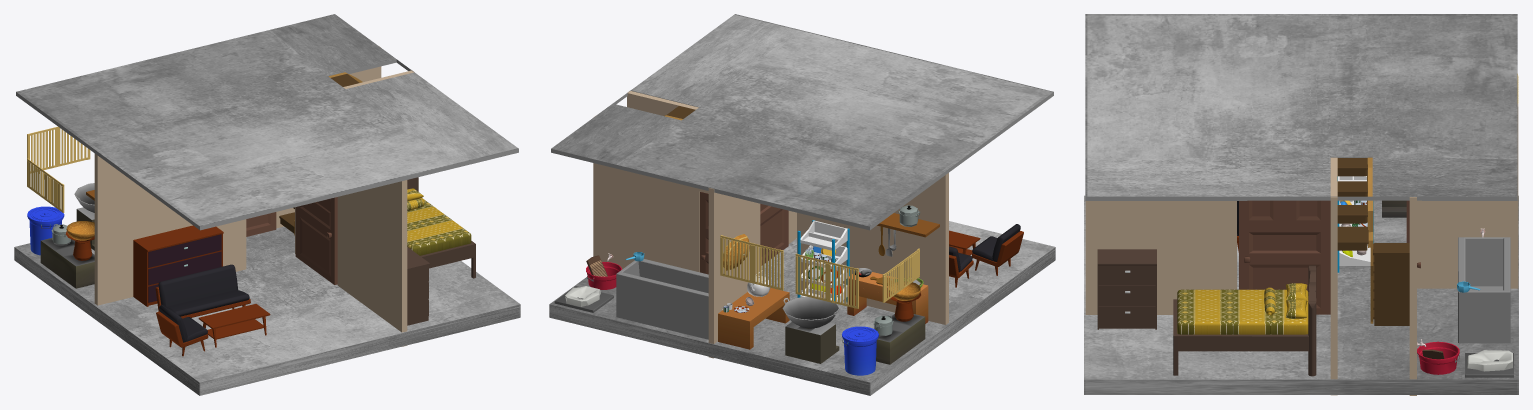
Rendered from interior rumah atta.fbx.
3 views of the same model, side by side, from view 1: azimuth 30°, elevation 25°; view 2: azimuth 150°, elevation 25°; view 3: azimuth 270°, elevation 25° (orthographic). The views are drawn at different scales.
Parts seen in each view (by area): view 1: lantai 2, lantai, sekat 2, sekat 1, kabinet besar, sofa panjang, pintu kamar, Cube.029, jendela dapur belakang, tungku besar, meja sofa, kabinet besar.001 (+8 smaller); view 2: lantai 2, lantai, sekat 5, sekat 1, bak mandi, sekat 4, jendela dapur belakang, meja dapur, rak kaki, tungku kecil, tungku besar, ember (+13 smaller); view 3: lantai 2, lantai, sekat 2, pintu kamar, sekat 4, tangga dalam, bak mandi, Cube.029, kabinet besar.001, dipan, sekat 3, sekat 5 (+5 smaller).
Boxes of the visible parts, x1,y1,x2,y2 form: lantai 2: (16, 14, 518, 230); lantai: (14, 226, 520, 395); sekat 2: (337, 180, 407, 346); sekat 1: (94, 153, 246, 305); kabinet besar: (133, 225, 223, 306); sofa panjang: (155, 264, 250, 318); pintu kamar: (295, 197, 337, 284); Cube.029: (407, 198, 471, 255); jendela dapur belakang: (27, 126, 90, 173); tungku besar: (40, 238, 94, 288); meja sofa: (198, 304, 270, 347); kabinet besar.001: (407, 247, 429, 325); lantai 2: (551, 14, 1053, 230); lantai: (549, 221, 1055, 395); sekat 5: (593, 116, 708, 272); sekat 1: (797, 173, 948, 324); bak mandi: (616, 259, 708, 339); sekat 4: (708, 188, 760, 358); jendela dapur belakang: (720, 235, 858, 308); meja dapur: (718, 288, 789, 349); rak kaki: (797, 220, 849, 304); tungku kecil: (785, 322, 839, 363); tungku besar: (876, 314, 925, 364); ember: (842, 326, 878, 375); lantai 2: (1085, 14, 1517, 200); lantai: (1084, 195, 1518, 394); sekat 2: (1085, 201, 1236, 314); pintu kamar: (1239, 200, 1330, 314); sekat 4: (1417, 104, 1518, 288); tangga dalam: (1337, 157, 1409, 325); bak mandi: (1458, 237, 1510, 343); Cube.029: (1177, 289, 1308, 334); kabinet besar.001: (1097, 249, 1156, 329); dipan: (1173, 265, 1316, 376); sekat 3: (1330, 157, 1337, 395); sekat 5: (1409, 197, 1416, 395).
Bounding box in the file's own units: 1204 × 607 × 1202.
